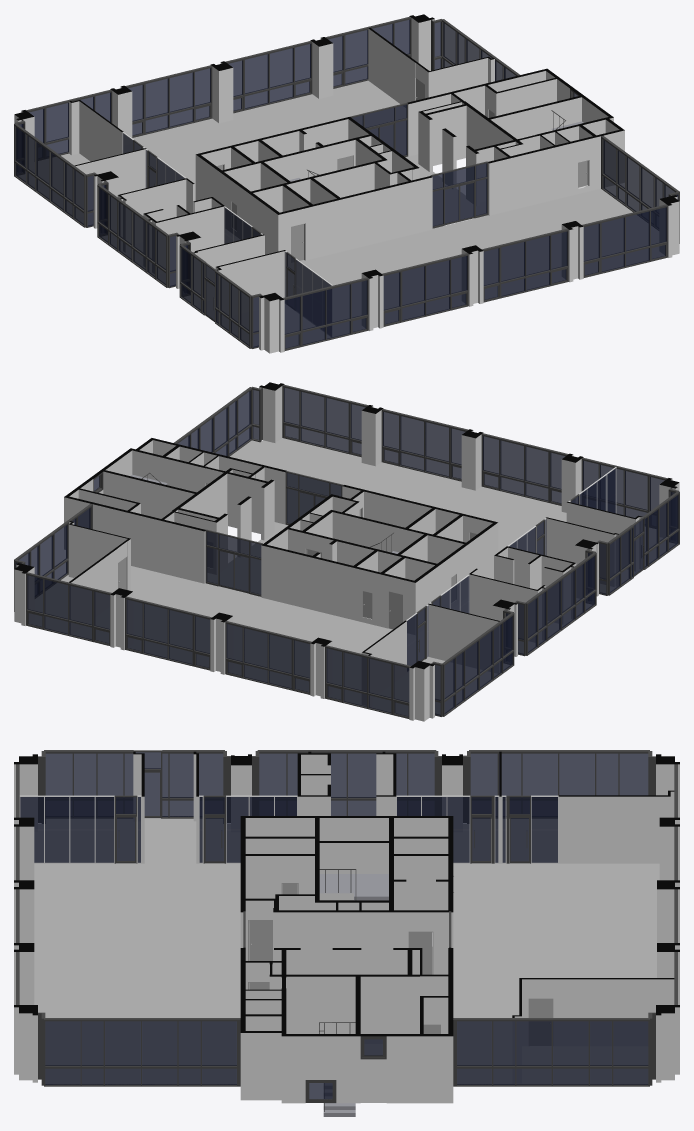
The picture shows the model from 3 angles, top to bottom: view 1: azimuth 30°, elevation 25°; view 2: azimuth 150°, elevation 25°; view 3: azimuth 270°, elevation 25°; orthographic projection. The views are drawn at different scales.
Visible parts, largest first — view 1: 9F, Shape090, Line067, Plane117, Plane118, Rectangle155; view 2: 9F, Shape090, Line067, Plane117, Plane118, Rectangle155; view 3: Line067, 9F, Shape090, Plane117, Plane118, stair112, Box3169, stair113.
Part boxes in pixels (x1,y1,x2,y2): 9F: [14, 16, 679, 350]; Shape090: [14, 14, 679, 353]; Line067: [19, 80, 664, 347]; Plane117: [69, 100, 285, 321]; Plane118: [368, 28, 494, 107]; Rectangle155: [405, 154, 485, 225]; 9F: [14, 384, 679, 718]; Shape090: [14, 382, 679, 721]; Line067: [29, 438, 674, 715]; Plane117: [361, 502, 642, 706]; Plane118: [68, 521, 130, 633]; Rectangle155: [207, 522, 288, 593]; Line067: [34, 818, 659, 1083]; 9F: [16, 750, 677, 1102]; Shape090: [14, 754, 679, 1103]; Plane117: [133, 751, 674, 863]; Plane118: [512, 978, 674, 1083]; stair112: [319, 869, 388, 900]; Box3169: [305, 1034, 336, 1079]; stair113: [319, 1022, 355, 1116].
Bounding box in the file's own units: 27.4 × 4.61 × 26.95.
Materials: 7 (1 with a texture image).
